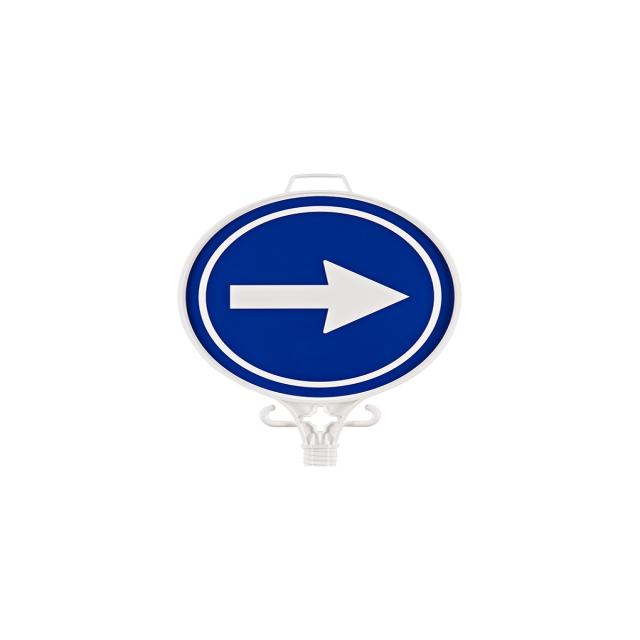SensObligatoire: (178, 189, 466, 399)
